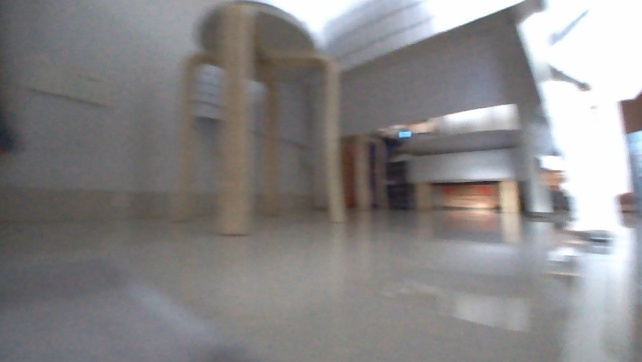sofa1: (398, 126, 524, 213)
